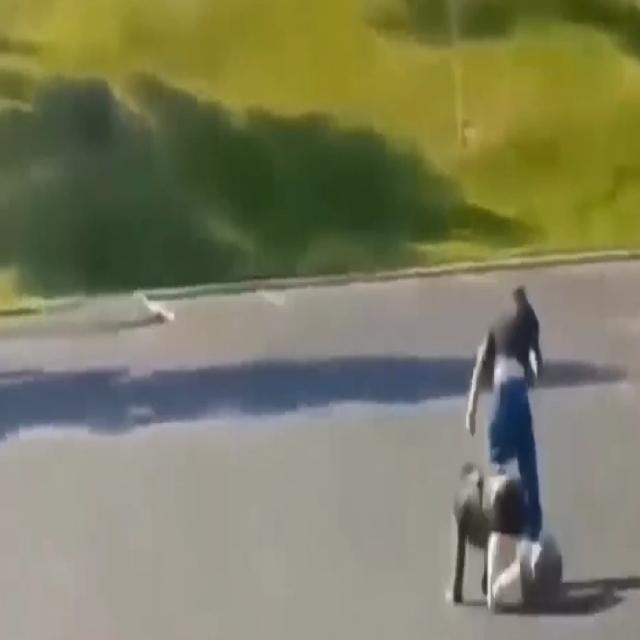fight: (445, 276, 568, 623)
